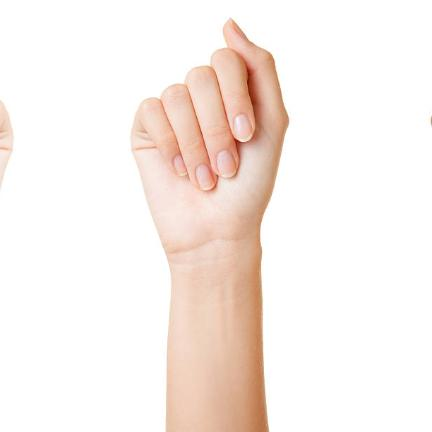Nail: (233, 114, 253, 142), (216, 151, 236, 177), (196, 165, 215, 190), (173, 155, 188, 176)
